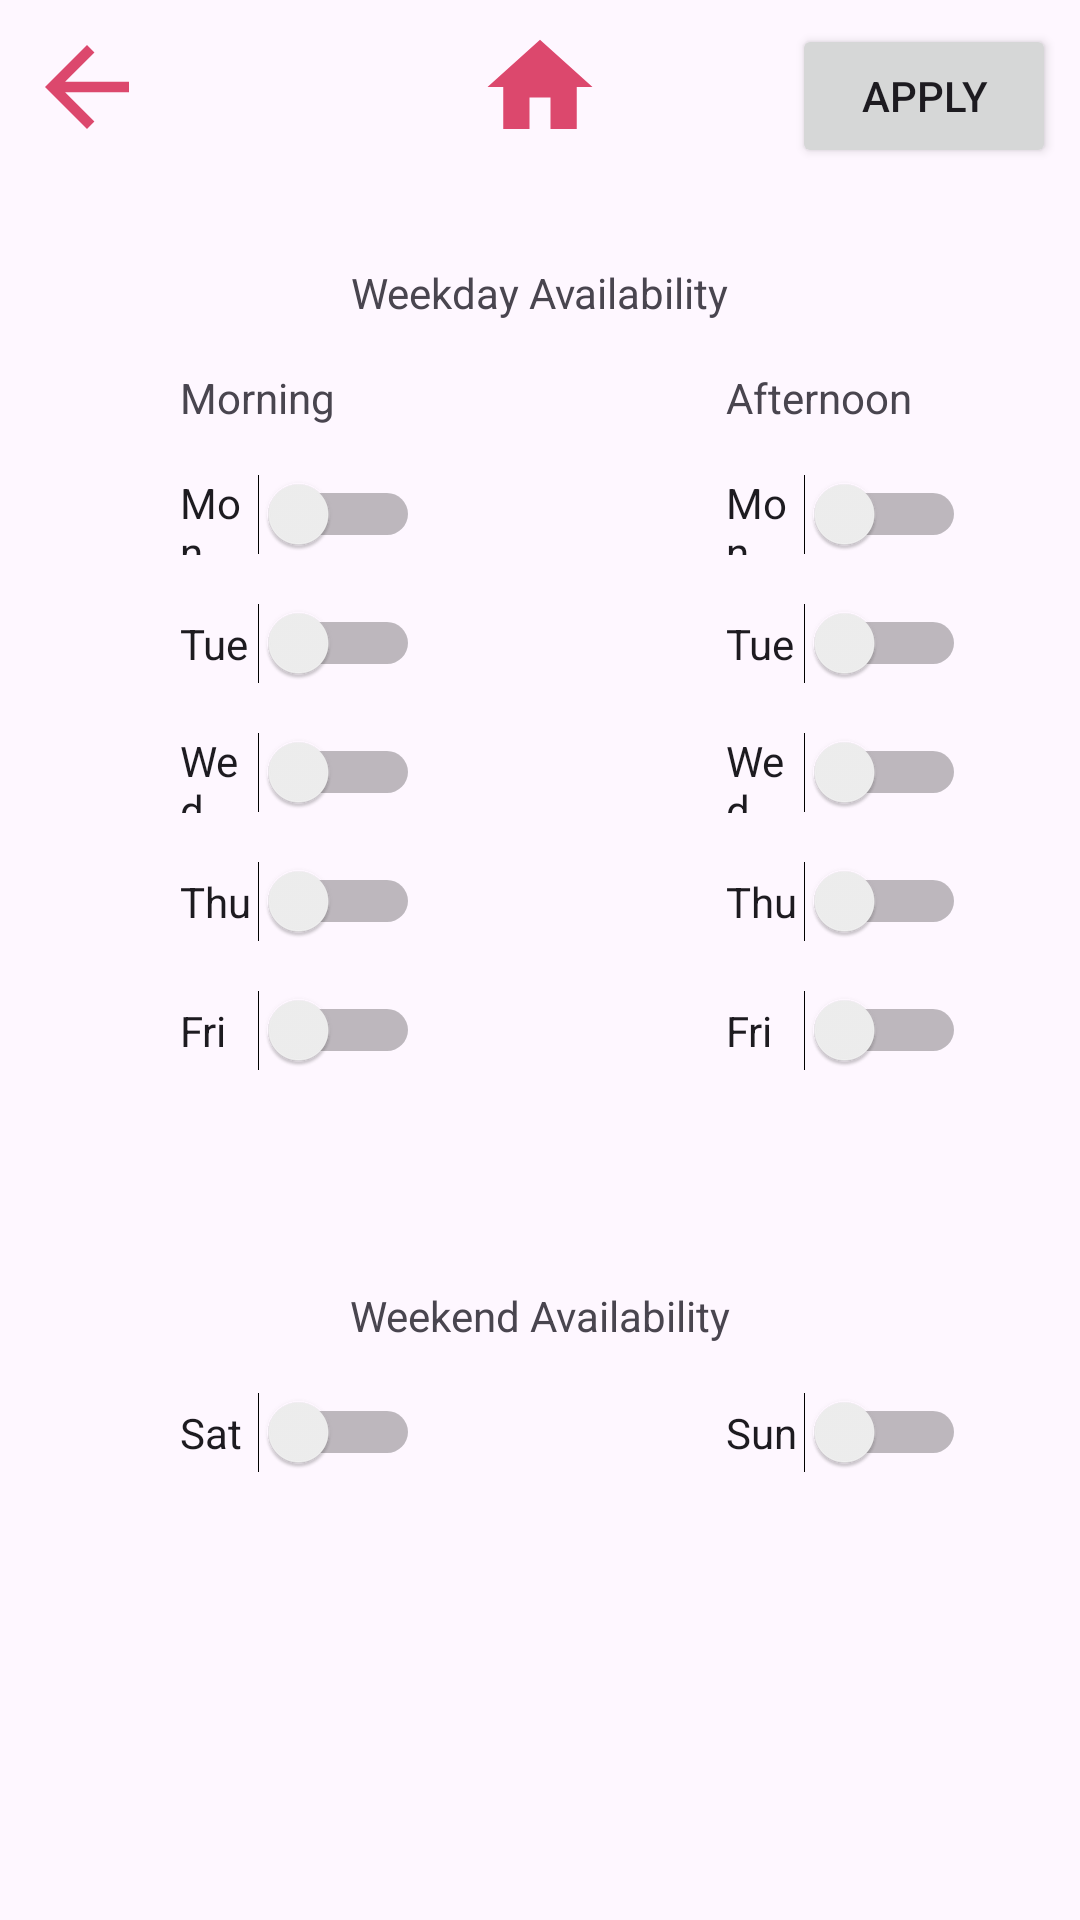

Screen size 1080px x 1920px. Icon name, then its center in pixels as (x,y):
backarrow: (87,87)
home: (540,84)
